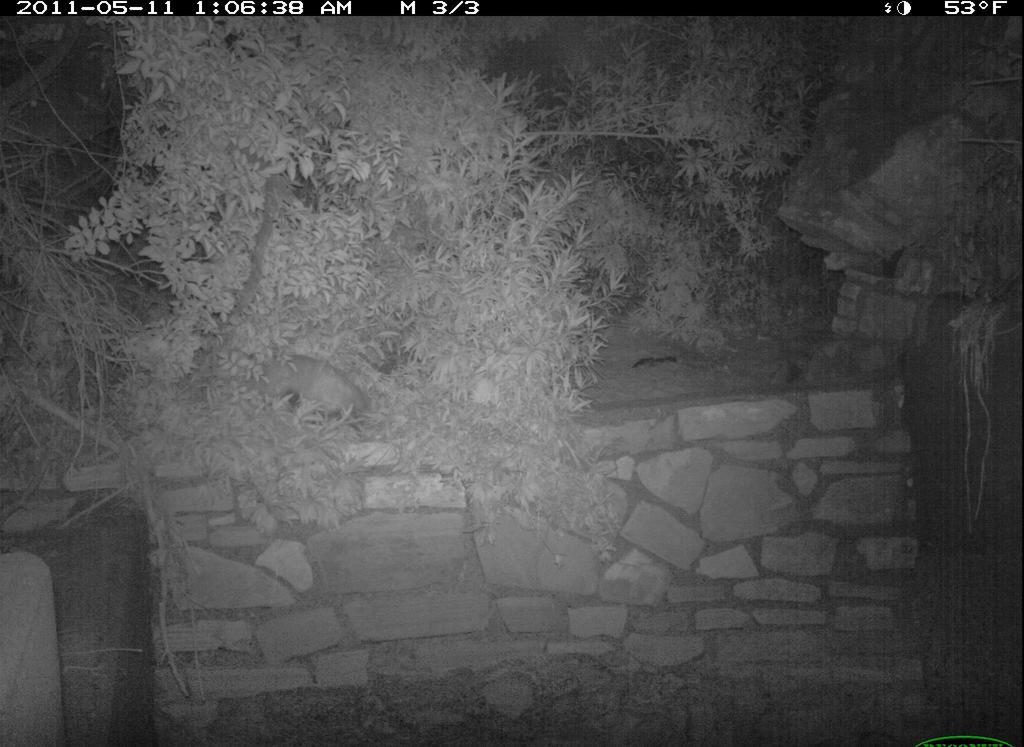opossum: (241, 327, 397, 461)
